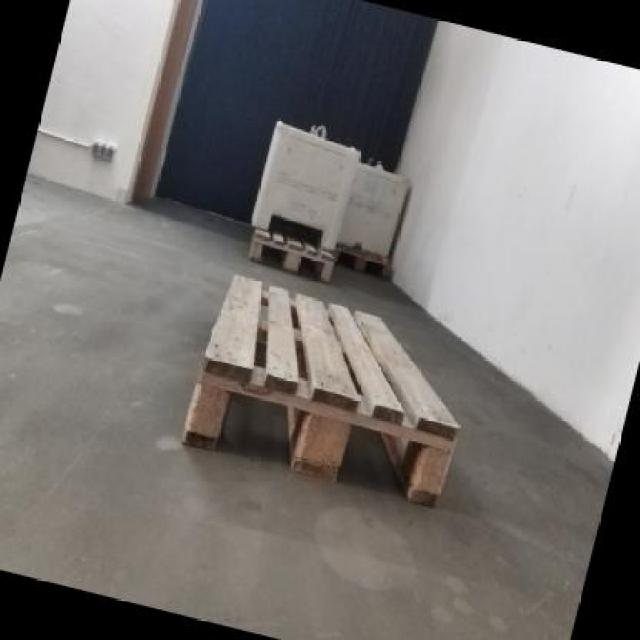block: (294, 392, 356, 487), (175, 364, 235, 454), (408, 422, 454, 510), (283, 240, 302, 274), (315, 255, 336, 285), (250, 232, 264, 263)
front: (174, 355, 458, 518), (246, 227, 338, 284), (335, 248, 398, 276)
